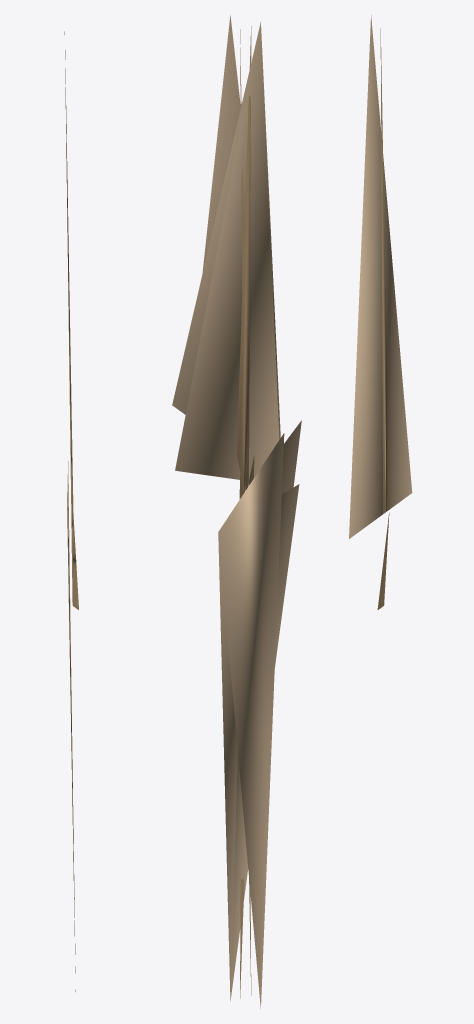
Rendered from equip_weapon_bronze_axe.glb.
3 views of the same model, side by side, from view 1: azimuth 30°, elevation 25°; view 2: azimuth 150°, elevation 25°; view 3: azimuth 330°, elevation 25° (orthographic).
Parts seen in each view (by area): view 1: equip_weapon_bronze_axe; view 2: equip_weapon_bronze_axe; view 3: equip_weapon_bronze_axe.
Boxes of the visible parts, bbox=[...] form: equip_weapon_bronze_axe: bbox=[64, 31, 78, 991]; equip_weapon_bronze_axe: bbox=[172, 15, 301, 1008]; equip_weapon_bronze_axe: bbox=[349, 15, 412, 609].
Size of the model in its own units: 0.2376 by 2 by 0.2376.
